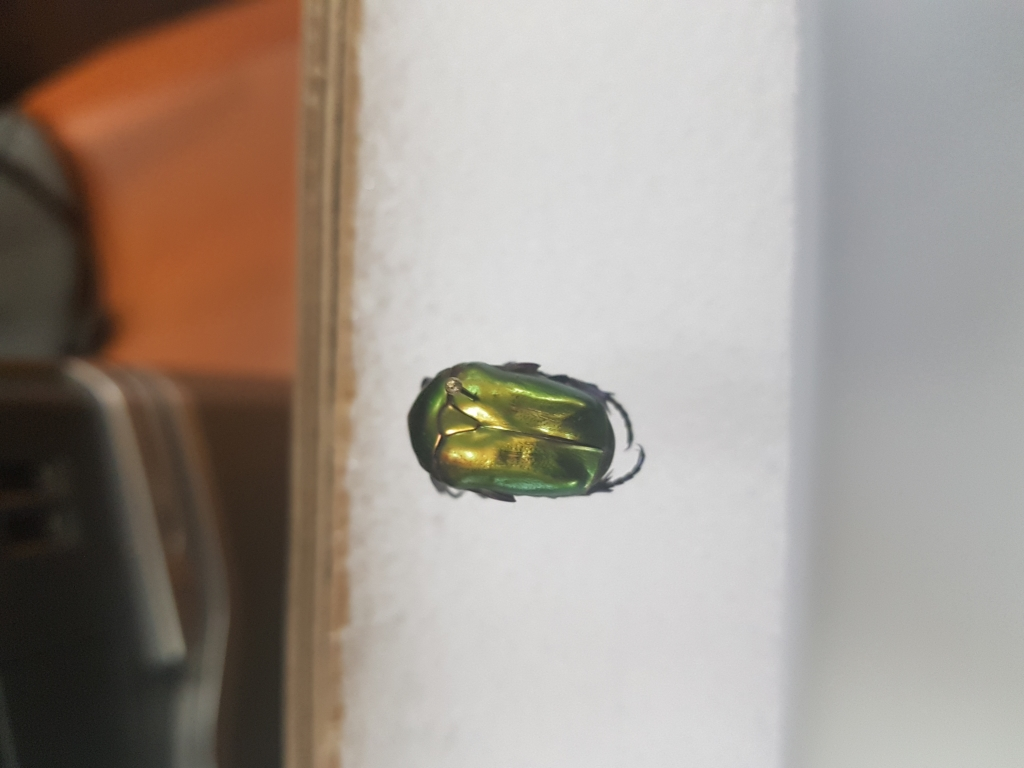Protaetia_cuprea_ignicollis: (394, 353, 678, 511)
